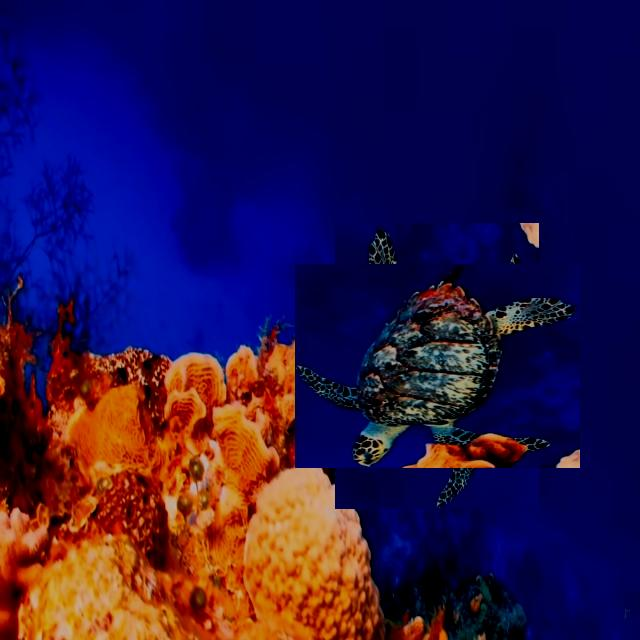Sea turtle: (315, 244, 559, 488)
